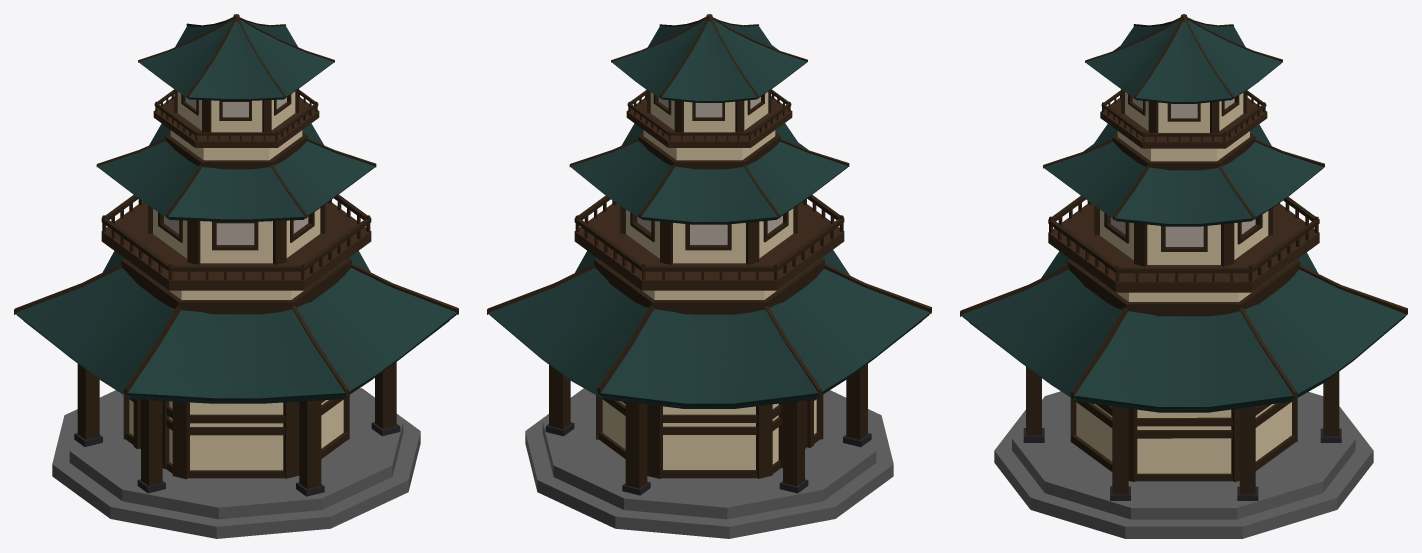
Rendered from houme013_2.fbx.
3 renders of one model, left to right at view 1: azimuth 30°, elevation 25°; view 2: azimuth 150°, elevation 25°; view 3: azimuth 270°, elevation 25°, orthographic.
Parts seen in each view (by area): view 1: houme13_2, foundation13_1_2; view 2: houme13_2, foundation13_1_2; view 3: houme13_2, foundation13_1_2.
Boxes of the visible parts, left/top/right/bottom form: houme13_2: left=14, top=14, right=458, bottom=496; foundation13_1_2: left=52, top=388, right=420, bottom=538; houme13_2: left=487, top=14, right=931, bottom=495; foundation13_1_2: left=525, top=388, right=893, bottom=538; houme13_2: left=960, top=14, right=1407, bottom=500; foundation13_1_2: left=994, top=391, right=1373, bottom=538.
Bounding box in the file's own units: 2369 × 3001 × 2723.
